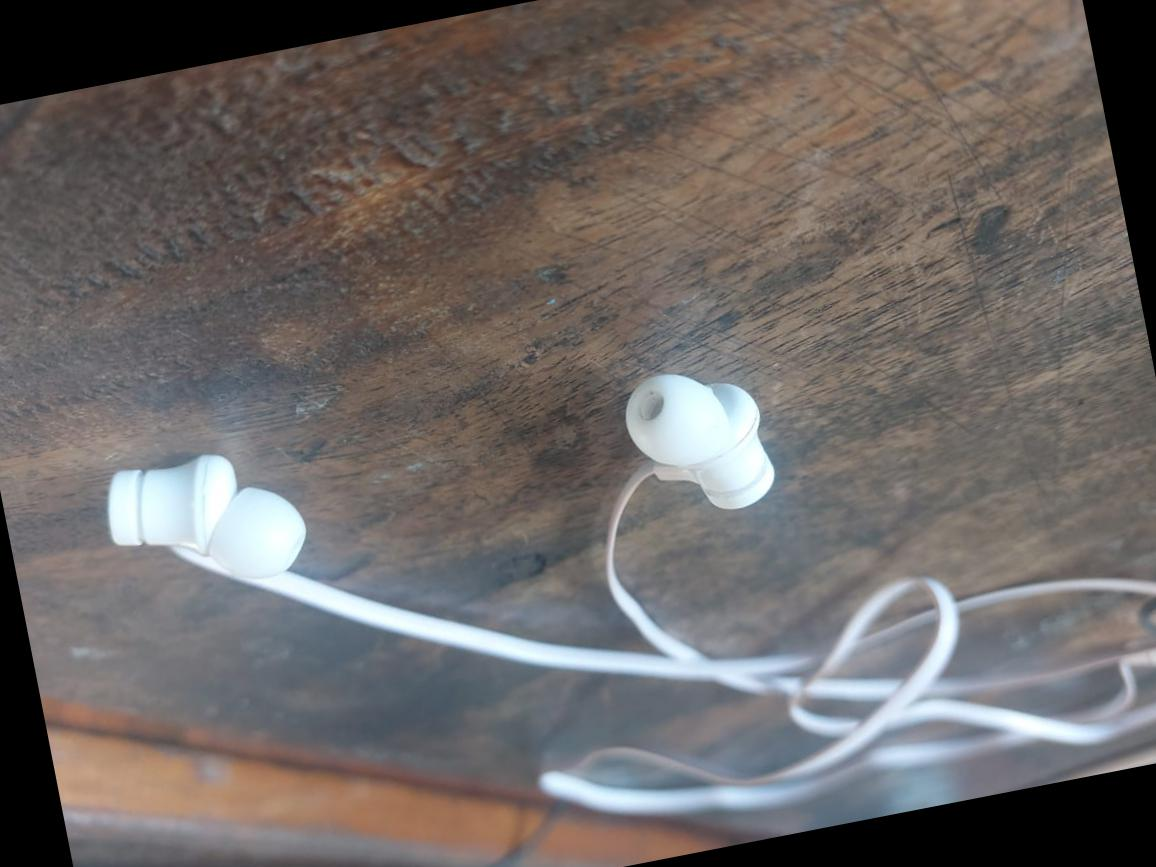Earphone: (77, 424, 339, 628), (594, 342, 800, 536)
